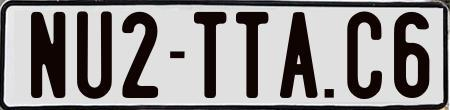2: (120, 9, 162, 100)
6: (393, 10, 431, 96)
A: (278, 11, 320, 97)
C: (345, 9, 385, 102)
N: (28, 9, 64, 99)
T: (236, 10, 271, 100), (192, 10, 225, 102)
U: (75, 8, 115, 98)
